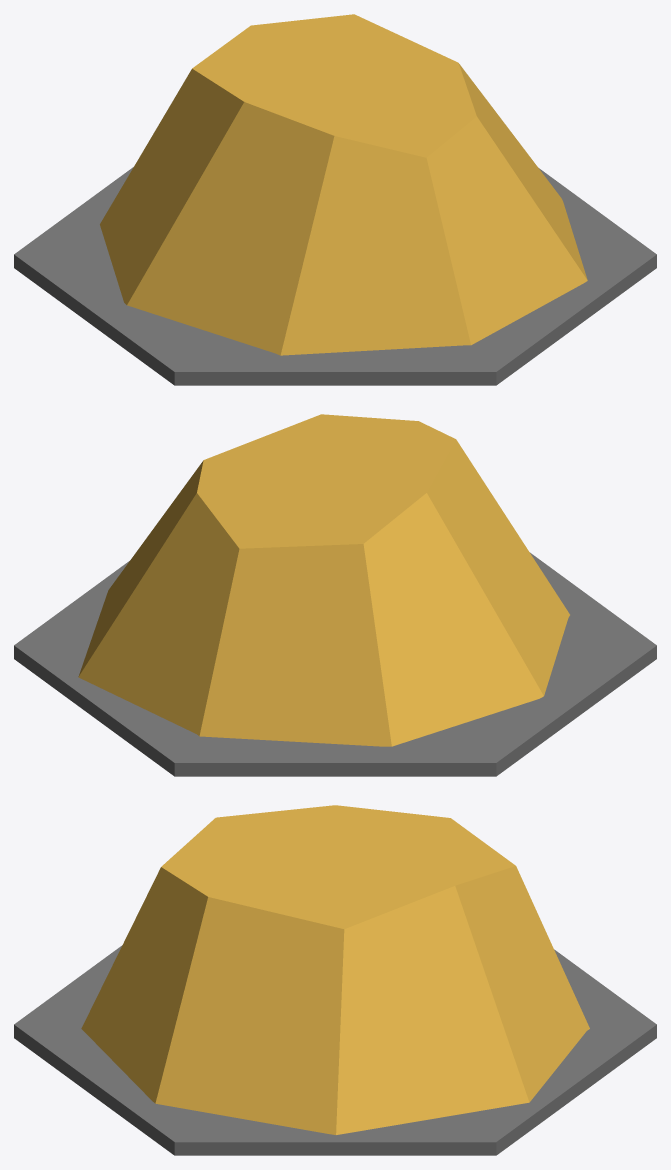
File: jello.fbx
The picture shows the model from 3 angles, top to bottom: view 1: azimuth 30°, elevation 25°; view 2: azimuth 150°, elevation 25°; view 3: azimuth 270°, elevation 25°; orthographic projection.
Visible parts, largest first — view 1: Cylinder, Cylinder.001; view 2: Cylinder, Cylinder.001; view 3: Cylinder, Cylinder.001.
Boxes of the visible parts, <box> form: Cylinder: <box>100,14,587,355</box>; Cylinder.001: <box>14,167,656,385</box>; Cylinder: <box>78,414,569,746</box>; Cylinder.001: <box>14,552,656,776</box>; Cylinder: <box>81,805,589,1134</box>; Cylinder.001: <box>14,945,656,1155</box>.
Bounding box in the file's own units: 187 × 79.79 × 216.
